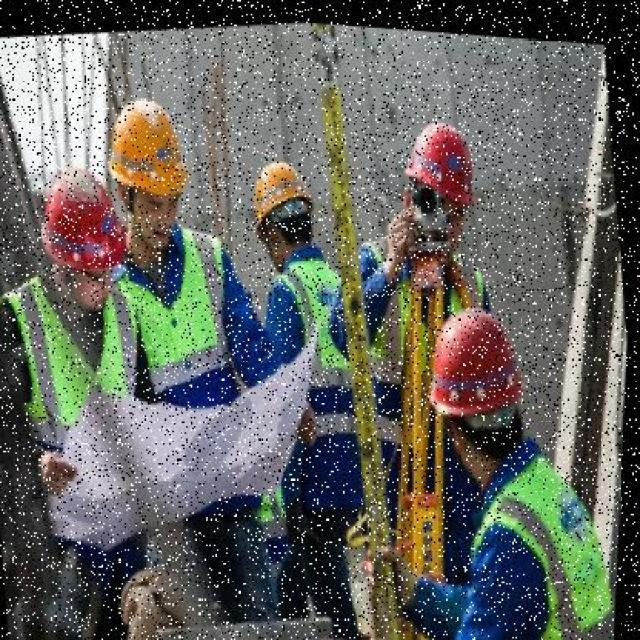helmet: (22, 147, 136, 287), (420, 299, 536, 421), (103, 81, 199, 207), (392, 102, 484, 221), (245, 151, 325, 249)
vest: (472, 430, 624, 639), (116, 220, 253, 409), (8, 274, 154, 432)
